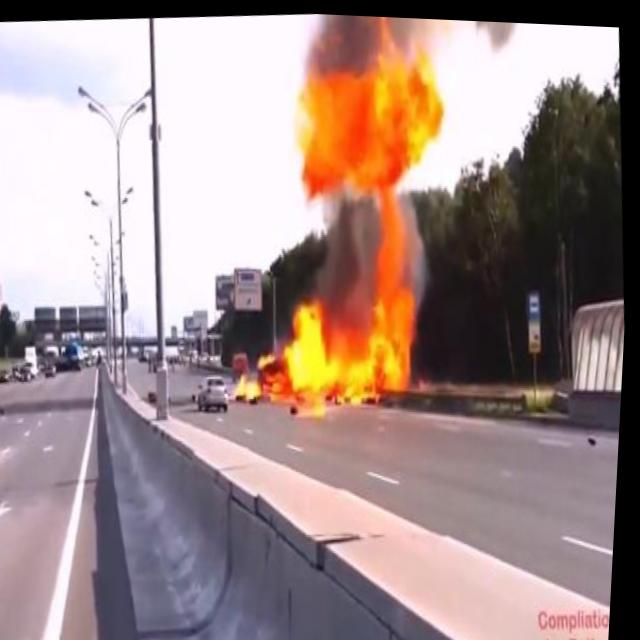fire: (285, 21, 456, 211), (231, 274, 443, 413), (357, 170, 430, 396)
